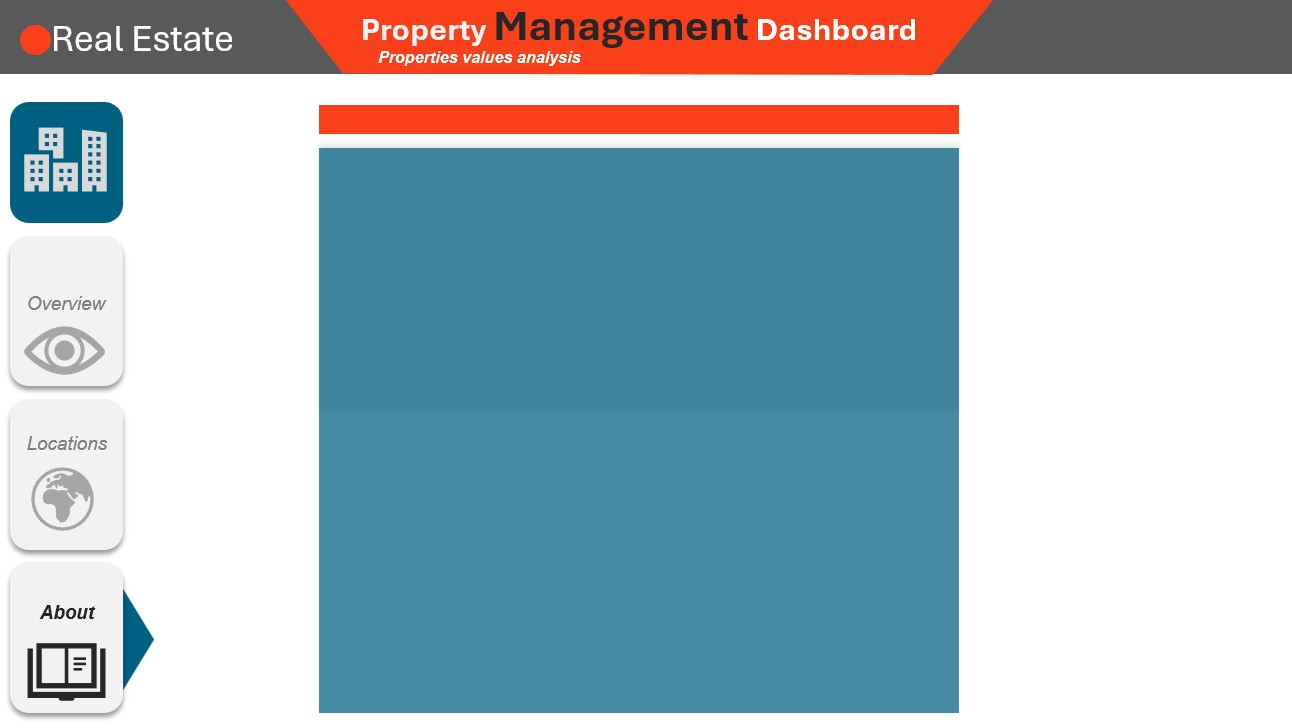

What the dashboard file says about the page in this screenshot:
{"tool":"powerbi","page":{"name":"About","canvas":[1280,720],"ordinal":2},"visuals":[{"type":"actionButton","box":[10,412.7,100,124.5],"z":0},{"type":"actionButton","box":[10,250.9,100,124.5],"z":1000},{"type":"actionButton","box":[10,574.5,100,124.5],"z":2000},{"type":"textbox","box":[312.7,96.4,478.2,34.5],"z":2001},{"type":"textbox","box":[388.2,285.5,487.3,272.7],"z":2002}]}

Visuals, with their boxes in screenshot pixels (x1, y1, x2, y2), scaled from the page's 1280x720 canvas onto the 1292x728 screenshot:
actionButton: x1=10, y1=417, x2=111, y2=543
actionButton: x1=10, y1=254, x2=111, y2=380
actionButton: x1=10, y1=581, x2=111, y2=707
textbox: x1=316, y1=97, x2=798, y2=132
textbox: x1=392, y1=289, x2=884, y2=564
